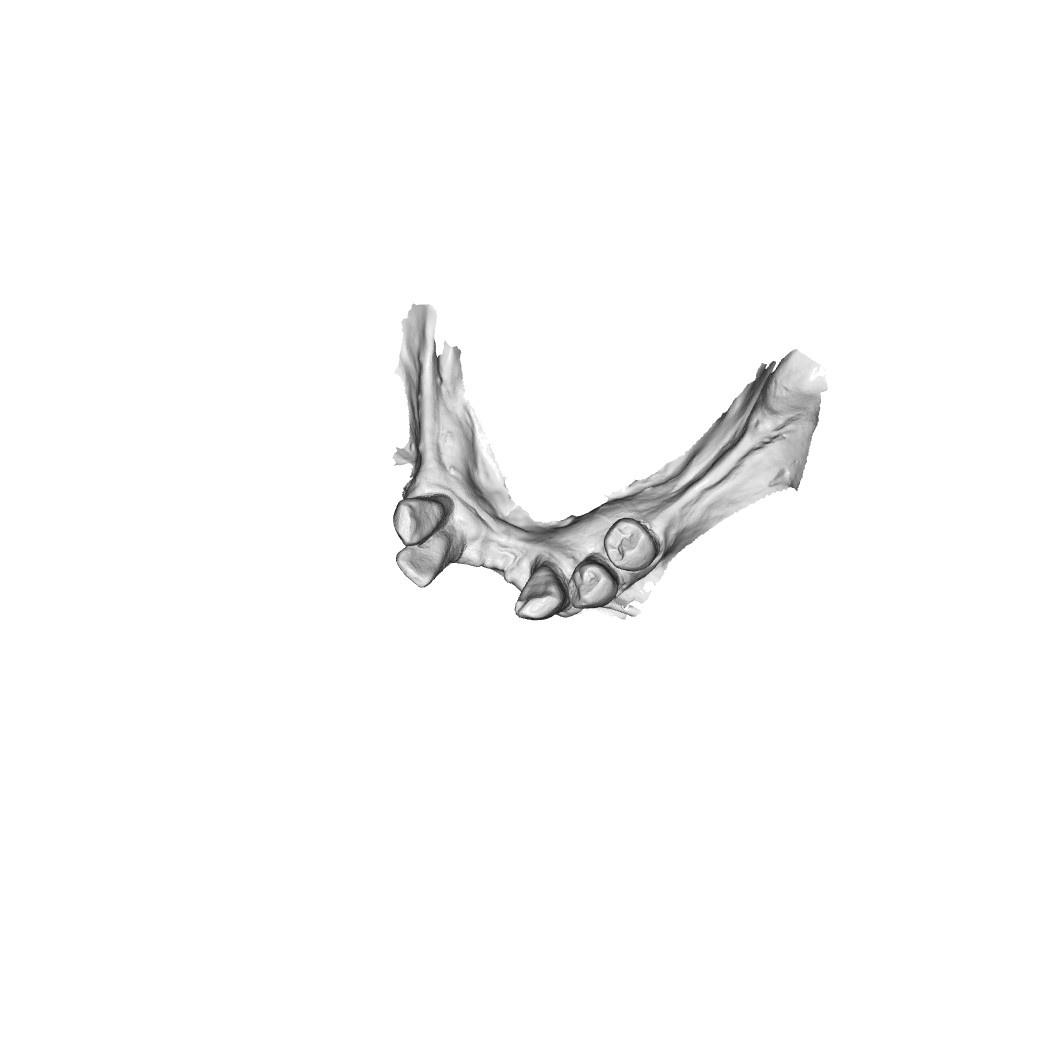canine: (511, 563, 564, 620), (393, 493, 447, 542)
incisor: (395, 534, 452, 590)
premolar: (604, 513, 666, 572), (568, 555, 620, 613)
